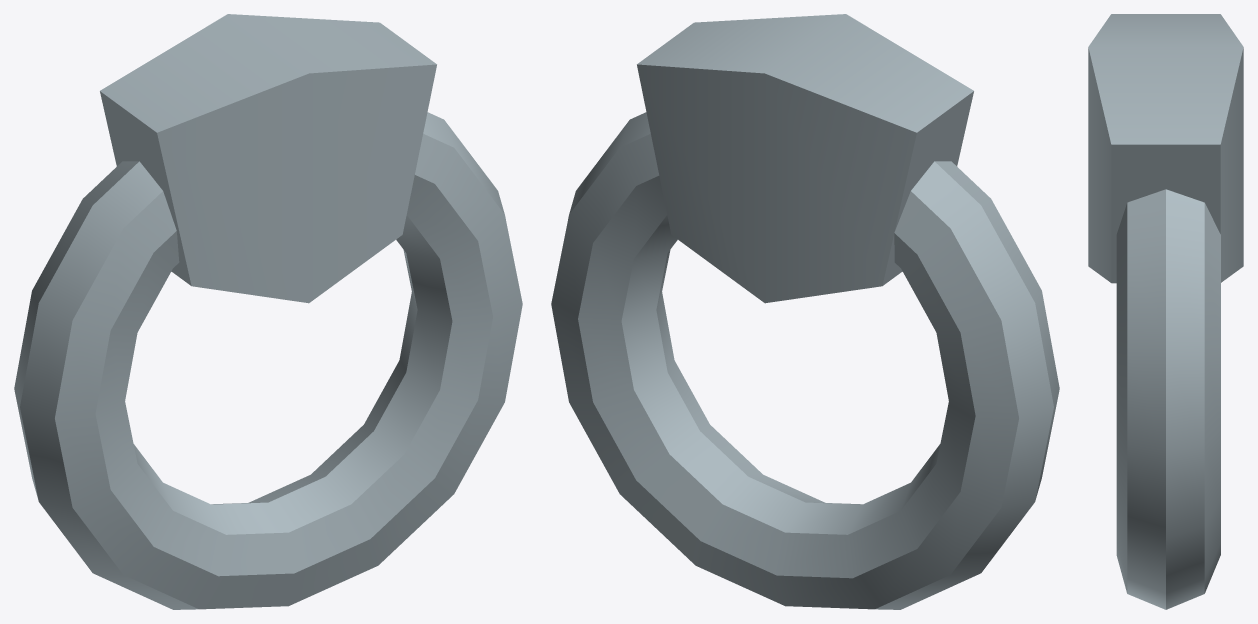
File: door-ring.fbx
3 views of the same model, side by side, from view 1: azimuth 30°, elevation 25°; view 2: azimuth 150°, elevation 25°; view 3: azimuth 270°, elevation 25° (orthographic). The views are drawn at different scales.
Visible parts, largest first — view 1: door; view 2: door; view 3: door.
Part boxes in pixels (<box>): door: <box>14,14,522,609</box>; door: <box>551,14,1059,609</box>; door: <box>1088,14,1243,609</box>.
Size of the model in its own units: 51.32 by 55.53 by 14.53.
